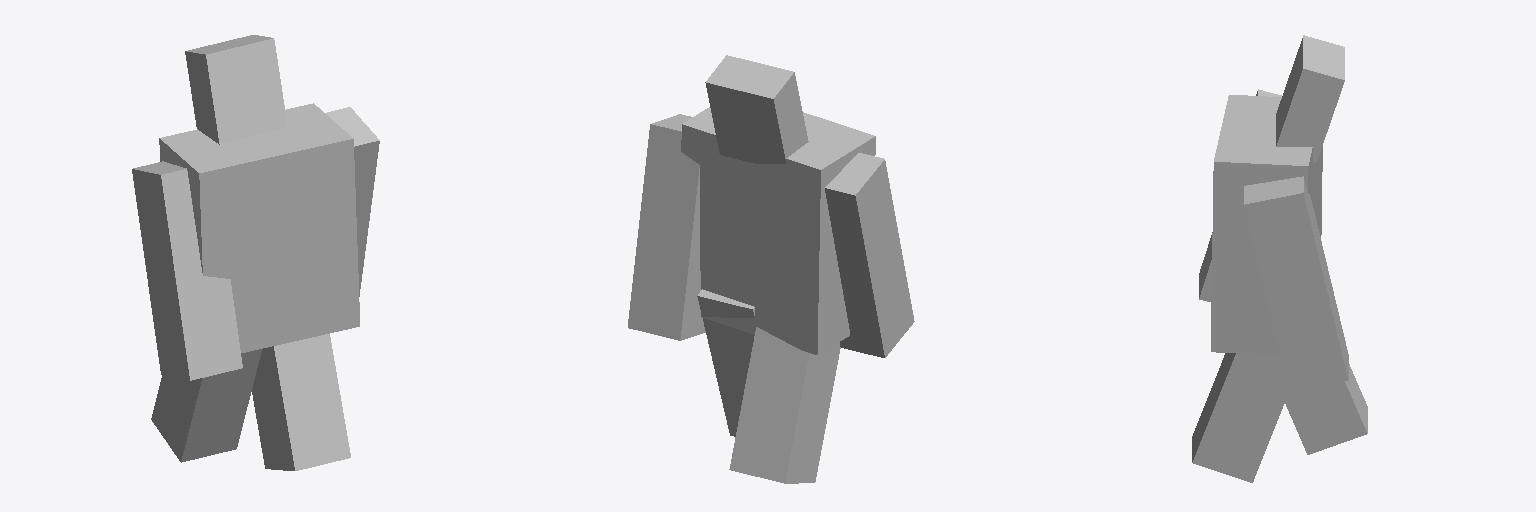
The model's file is walk_000005.obj.
3 renders of one model, left to right at view 1: azimuth 30°, elevation 25°; view 2: azimuth 150°, elevation 25°; view 3: azimuth 270°, elevation 25°, orthographic.
Parts seen in each view (by area): view 1: Cube, leg.003_Cube.002, leg.001_Cube.007, Cube.001_Cube.003, leg_Cube.001, leg.002_Cube.006; view 2: Cube, leg.002_Cube.006, leg.003_Cube.002, leg_Cube.001, Cube.001_Cube.003, leg.001_Cube.007, Plane.002; view 3: Cube, leg.002_Cube.006, leg.001_Cube.007, Cube.001_Cube.003, leg_Cube.001, leg.003_Cube.002.
Boxes of the visible parts, x1,y1,x2,y2 form: Cube: [159, 103, 359, 352]; leg.003_Cube.002: [132, 161, 242, 380]; leg.001_Cube.007: [252, 334, 350, 470]; Cube.001_Cube.003: [185, 35, 287, 144]; leg_Cube.001: [151, 349, 261, 462]; leg.002_Cube.006: [325, 107, 379, 296]; Cube: [681, 107, 875, 355]; leg.002_Cube.006: [628, 114, 705, 340]; leg.003_Cube.002: [825, 153, 914, 357]; leg_Cube.001: [729, 327, 840, 483]; Cube.001_Cube.003: [705, 55, 808, 163]; leg.001_Cube.007: [697, 289, 754, 436]; Plane.002: [725, 126, 773, 161]; Cube: [1211, 95, 1322, 355]; leg.002_Cube.006: [1244, 176, 1348, 391]; leg.001_Cube.007: [1192, 353, 1288, 482]; Cube.001_Cube.003: [1276, 35, 1344, 162]; leg_Cube.001: [1285, 364, 1367, 454]; leg.003_Cube.002: [1199, 89, 1281, 301].
Size of the model in its own units: 3.47 by 6.32 by 2.49.